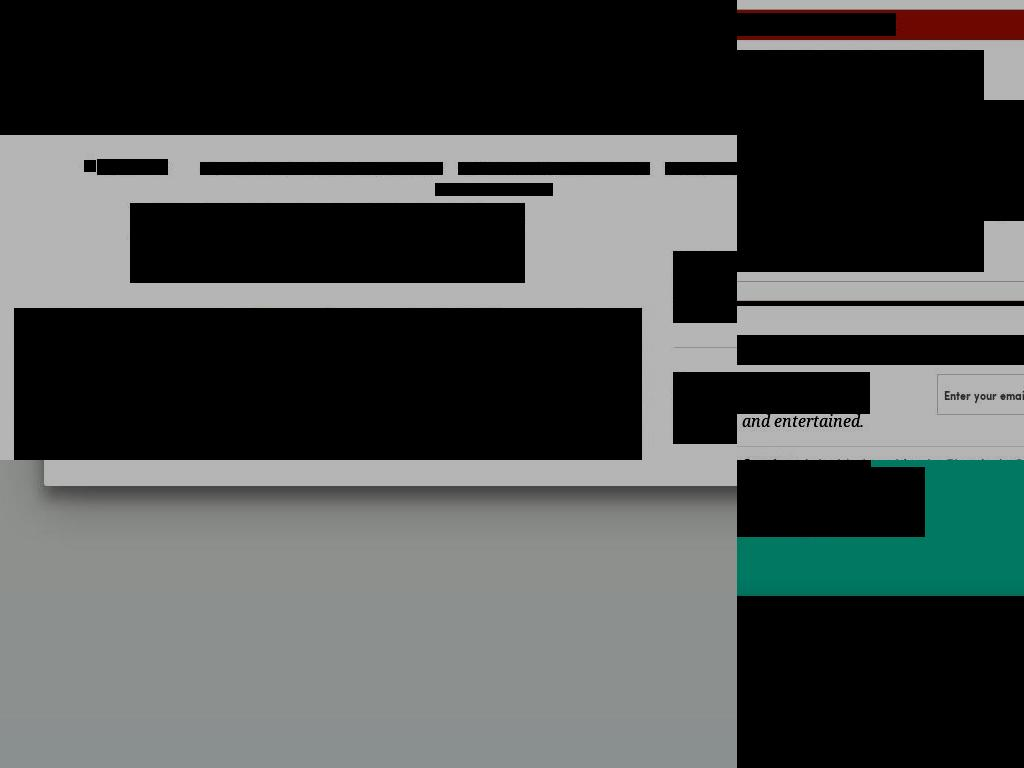button: (14, 308, 642, 460), (737, 50, 984, 272), (673, 251, 737, 323), (673, 372, 737, 444), (410, 58, 578, 80), (485, 107, 599, 123), (358, 107, 469, 123), (161, 107, 263, 123), (661, 107, 736, 123), (279, 107, 342, 123), (103, 107, 145, 123), (2, 57, 26, 81), (615, 107, 645, 123)
field: (937, 375, 1024, 414)
heading: (737, 467, 925, 537), (737, 335, 1024, 365), (673, 251, 737, 323), (673, 372, 737, 444), (737, 13, 896, 36), (97, 159, 168, 175), (84, 160, 96, 172)
image: (14, 308, 642, 460), (737, 50, 964, 272), (737, 596, 1024, 768), (0, 0, 737, 44), (410, 58, 578, 80), (737, 301, 1024, 306), (2, 57, 26, 81), (41, 57, 63, 80)
link: (130, 203, 525, 283), (200, 162, 443, 175), (458, 162, 650, 175), (435, 183, 553, 196), (665, 162, 737, 175), (745, 456, 791, 460)
text: (737, 372, 870, 414), (737, 410, 864, 433), (791, 456, 1024, 460)
